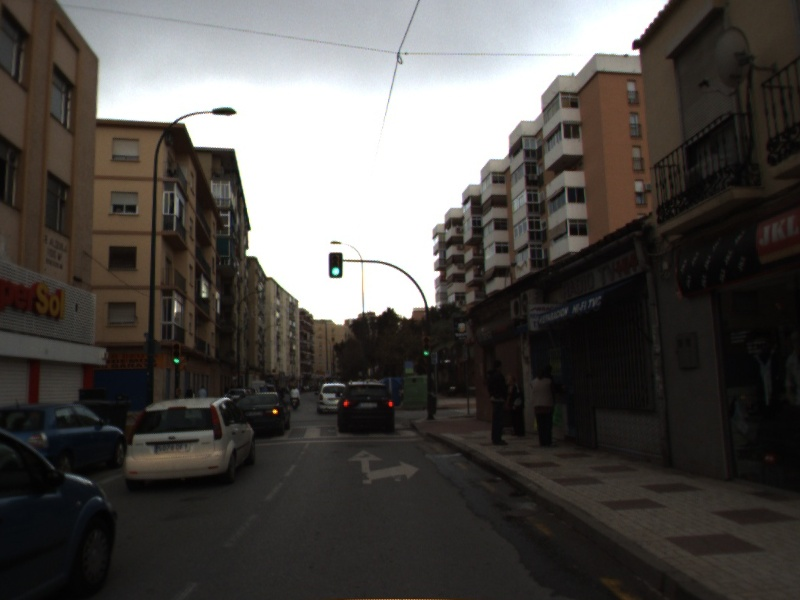STRAIGHT_RIGHT: (345, 447, 422, 486)
